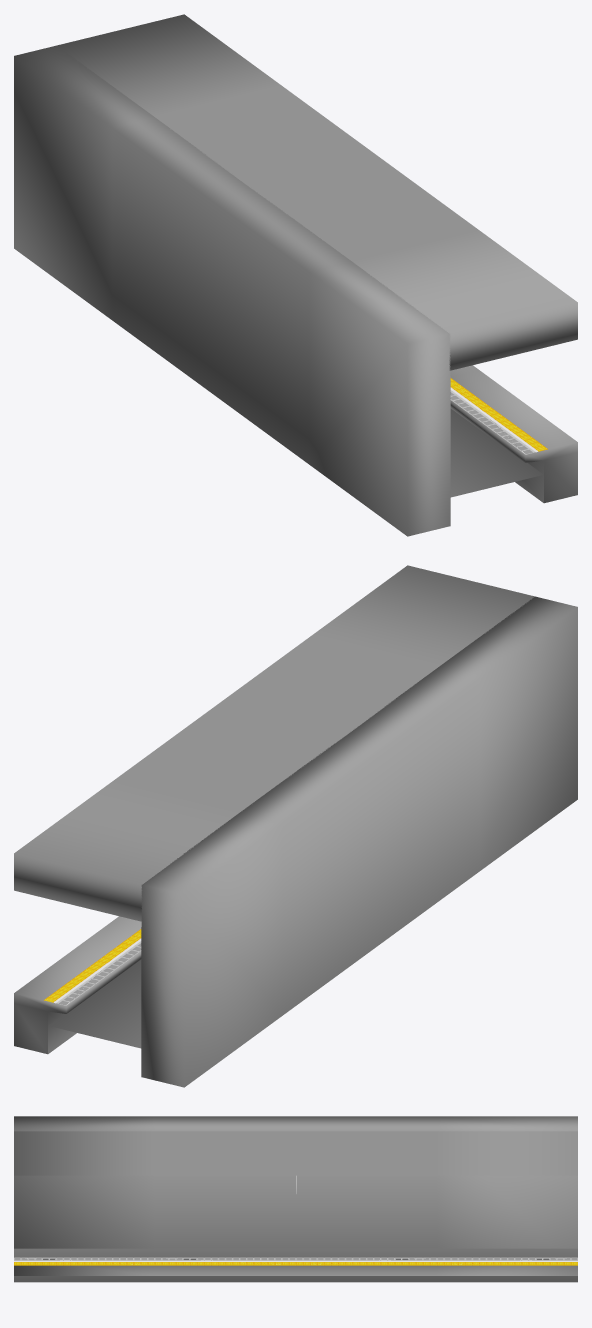
File: END_ST_RIGHT_W.glb
3 views of the same model, one above another, from view 1: azimuth 30°, elevation 25°; view 2: azimuth 150°, elevation 25°; view 3: azimuth 270°, elevation 25° (orthographic). The views are drawn at different scales.
Parts seen in each view (by area): view 1: Model; view 2: Model; view 3: Model.
Part boxes in pixels (x1,y1,x2,y2): Model: (14, 14, 577, 536); Model: (14, 565, 577, 1087); Model: (14, 1116, 577, 1282).
Size of the model in its own units: 25 by 27 by 100.
2 materials, 1 textured.
